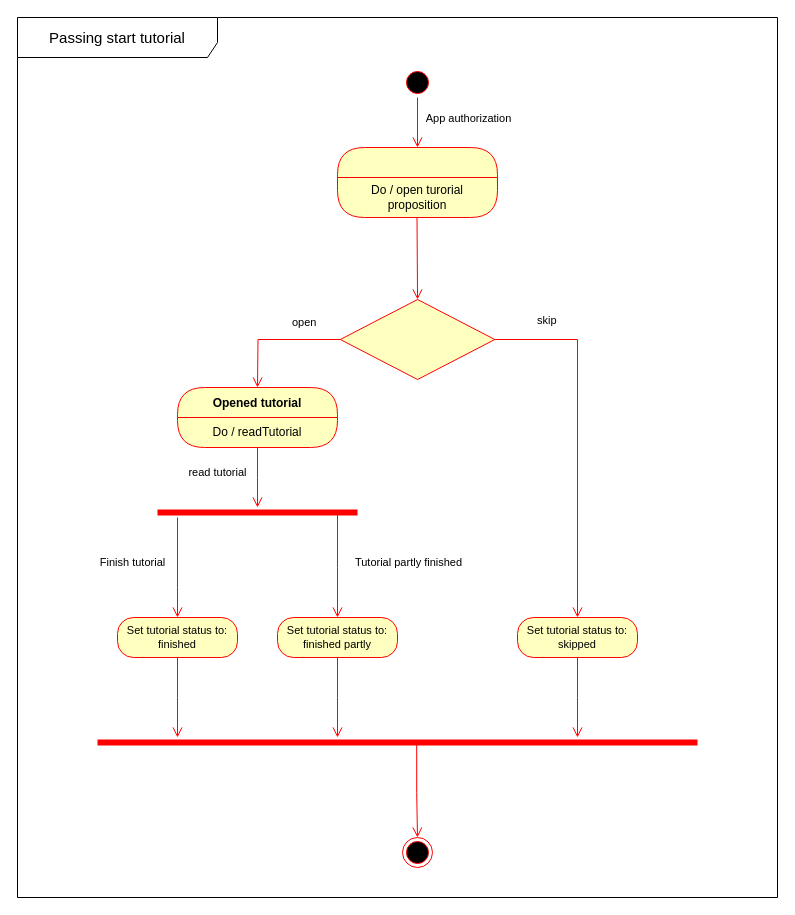
This 795x915 diagram has some shape labels left out. Each missing label, with the box of its shape:
Authorized: (336, 146, 498, 218)
Check user choice action: (339, 298, 495, 380)
